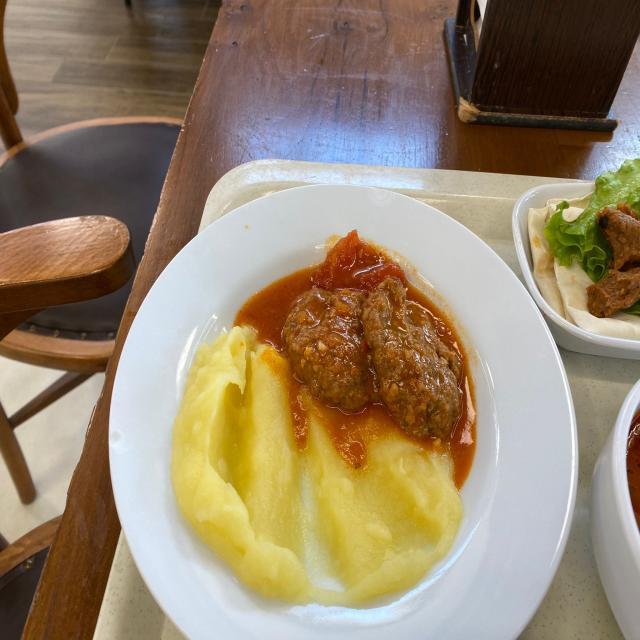ana_yemek: (170, 227, 483, 608)
